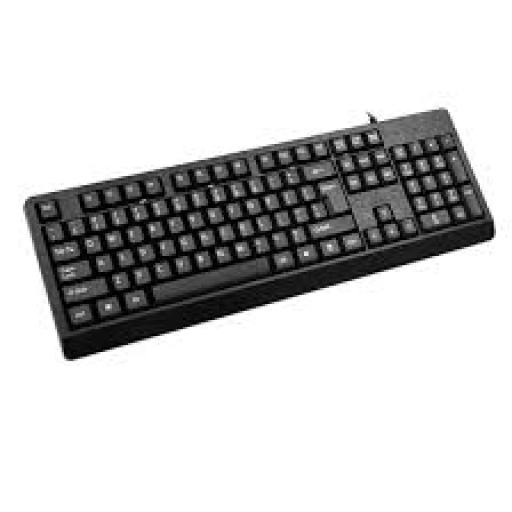keyboard: (25, 110, 491, 357)
